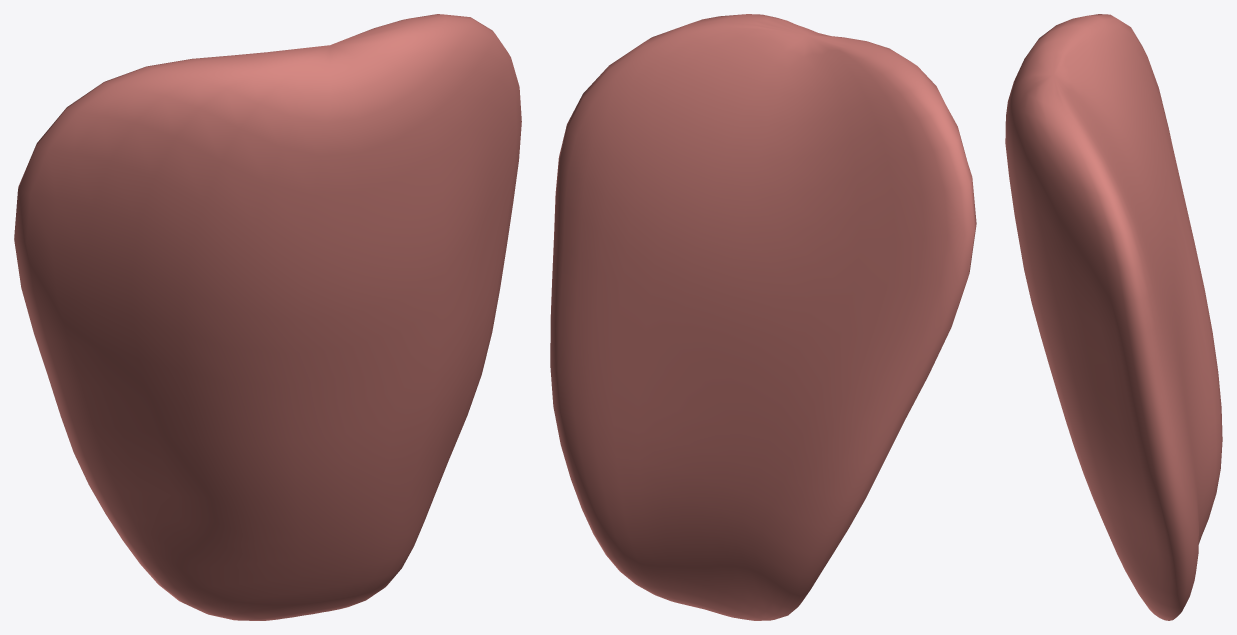
3 views of the same model, side by side, from view 1: azimuth 30°, elevation 25°; view 2: azimuth 150°, elevation 25°; view 3: azimuth 270°, elevation 25° (orthographic). The views are drawn at different scales.
Parts seen in each view (by area): view 1: ZA_47116c38ddf73dd6; view 2: ZA_47116c38ddf73dd6; view 3: ZA_47116c38ddf73dd6.
Boxes of the visible parts, x1=… form: ZA_47116c38ddf73dd6: x1=14, y1=14, x2=521, y2=620; ZA_47116c38ddf73dd6: x1=550, y1=14, x2=976, y2=620; ZA_47116c38ddf73dd6: x1=1005, y1=14, x2=1222, y2=620.
Size of the model in its own units: 0.0186 by 0.0228 by 0.00882.
